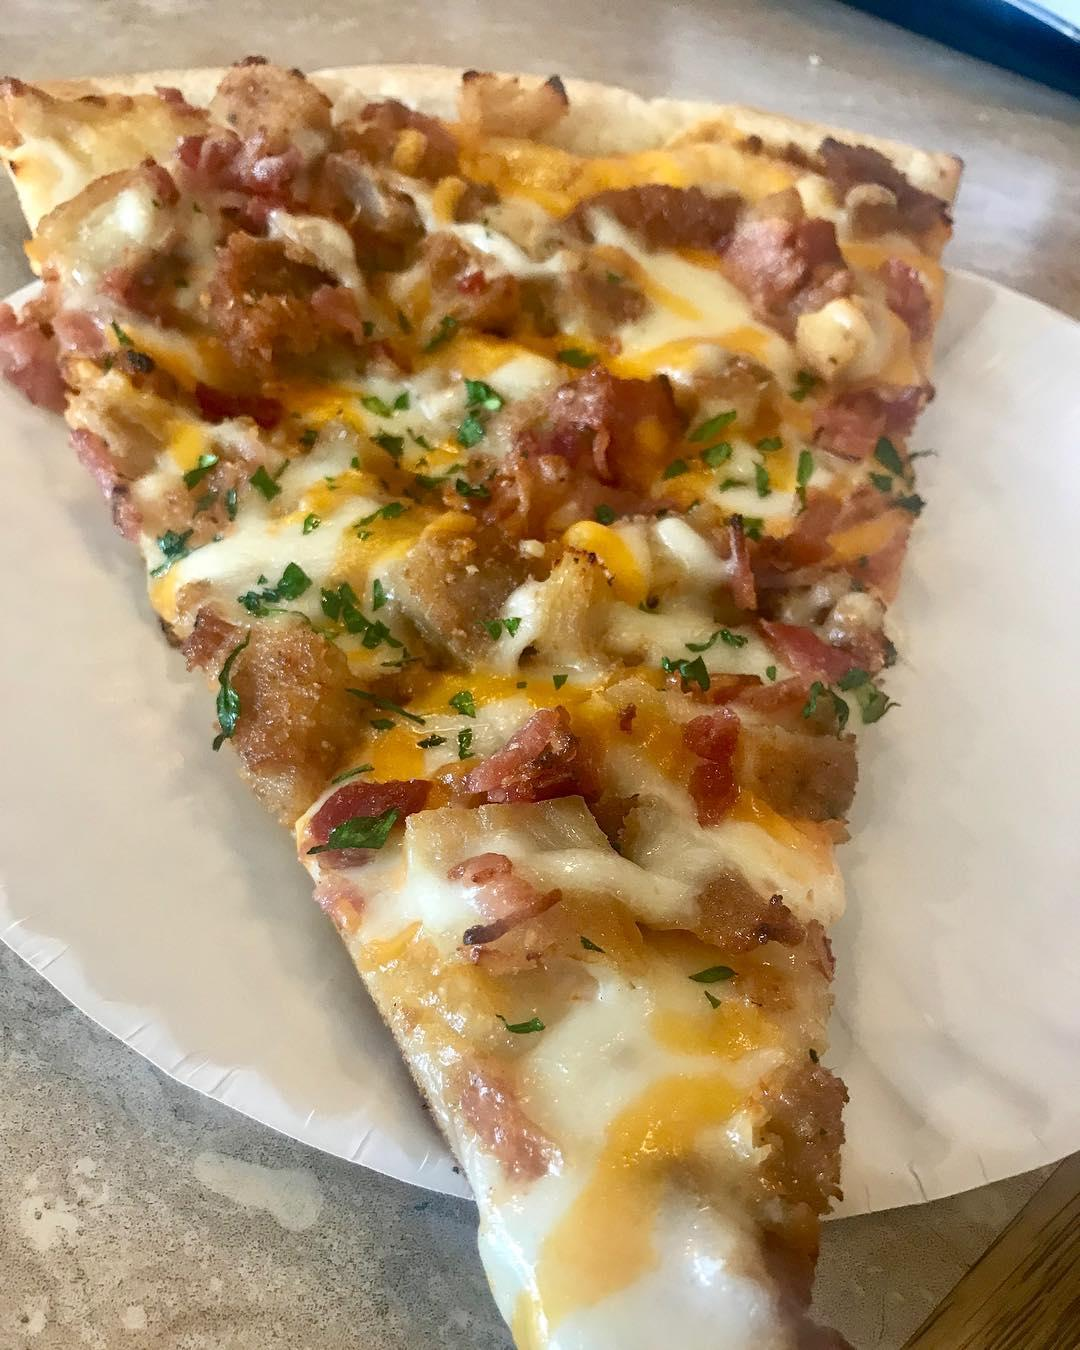Chicken: (397, 521, 619, 689), (172, 607, 361, 786), (182, 216, 335, 381), (215, 47, 367, 164)
Ham: (709, 516, 873, 710), (492, 356, 695, 498), (645, 193, 842, 323), (0, 240, 125, 438), (438, 698, 585, 816), (288, 767, 452, 865), (580, 172, 747, 258), (667, 705, 764, 836), (171, 120, 305, 199), (870, 262, 947, 345)
Pizza: (0, 66, 962, 1350)
